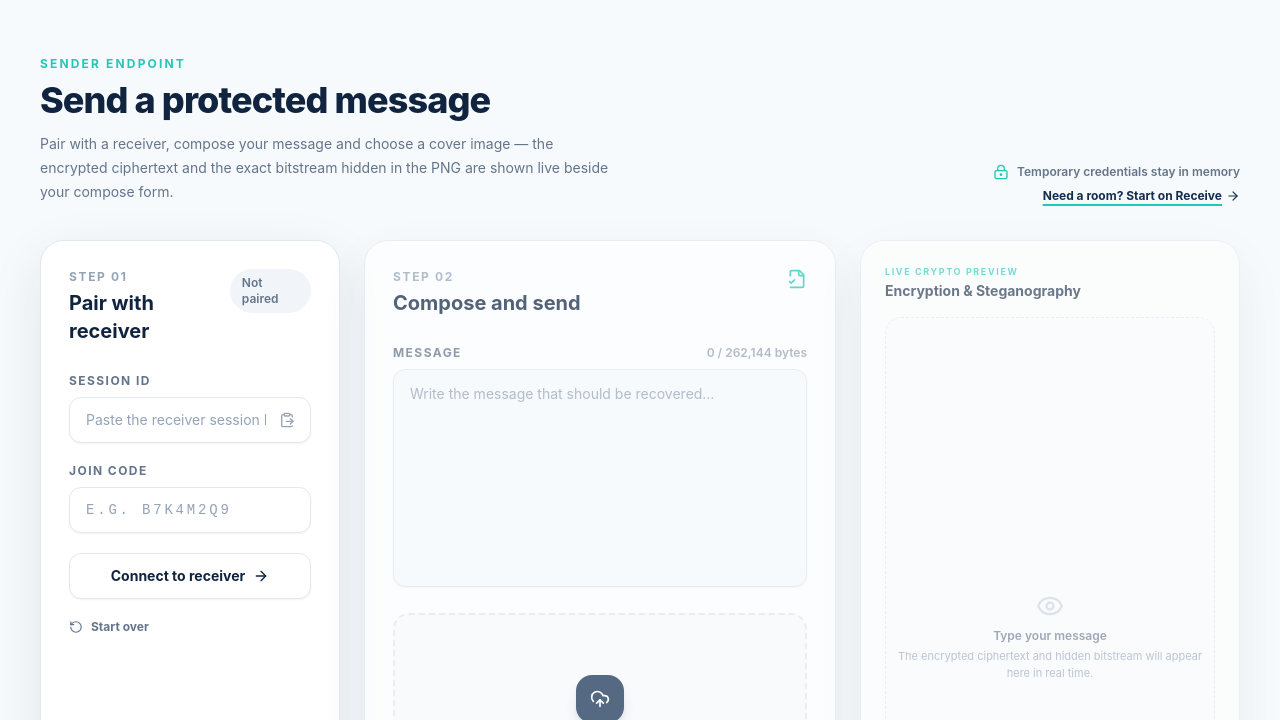
Test: SendMessagePage › pairs, previews a cover image, and submits a message through the typed API client
The width and height of the screenshot is (1280, 720).
Later steps or results of the test are not shown.
Type "session-123" into the field with placeholder "Paste the receiver session ID". click: (190, 420)
box: 69,397 -> 311,443
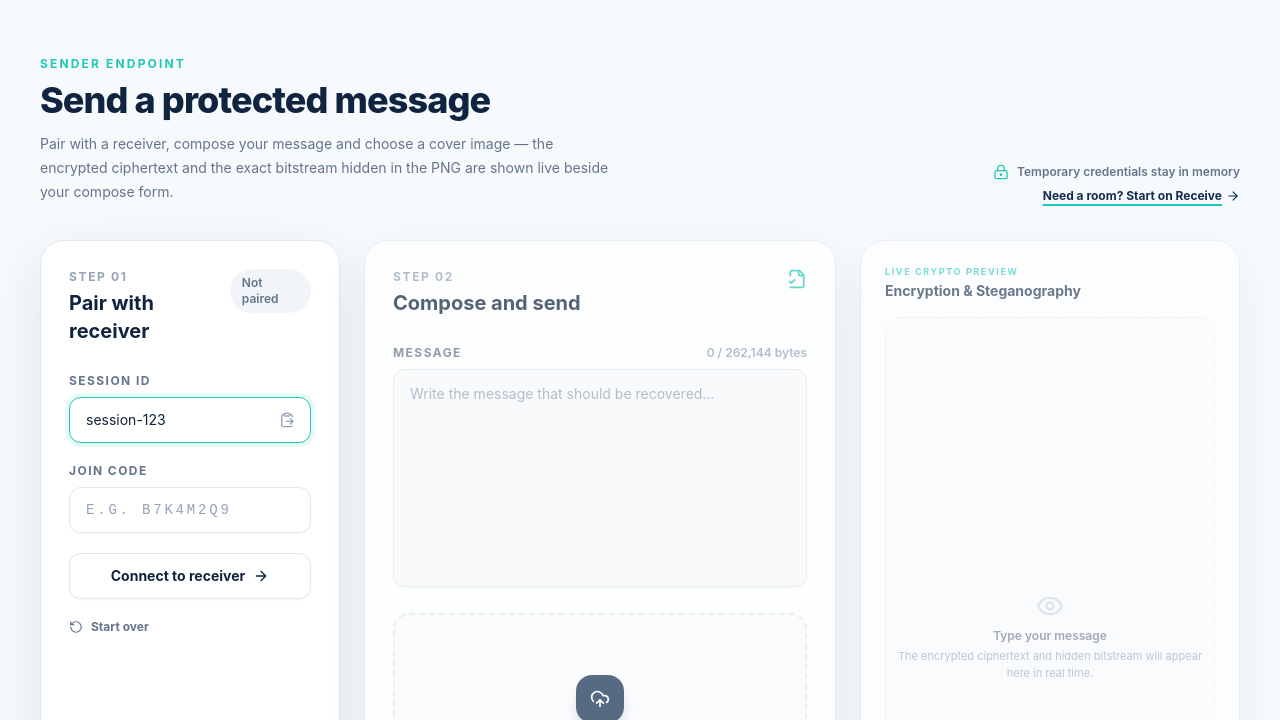
Type "B7K4M2Q9" into the field with placeholder "e.g. B7K4M2Q9". click: (190, 510)
box: 69,487 -> 311,533
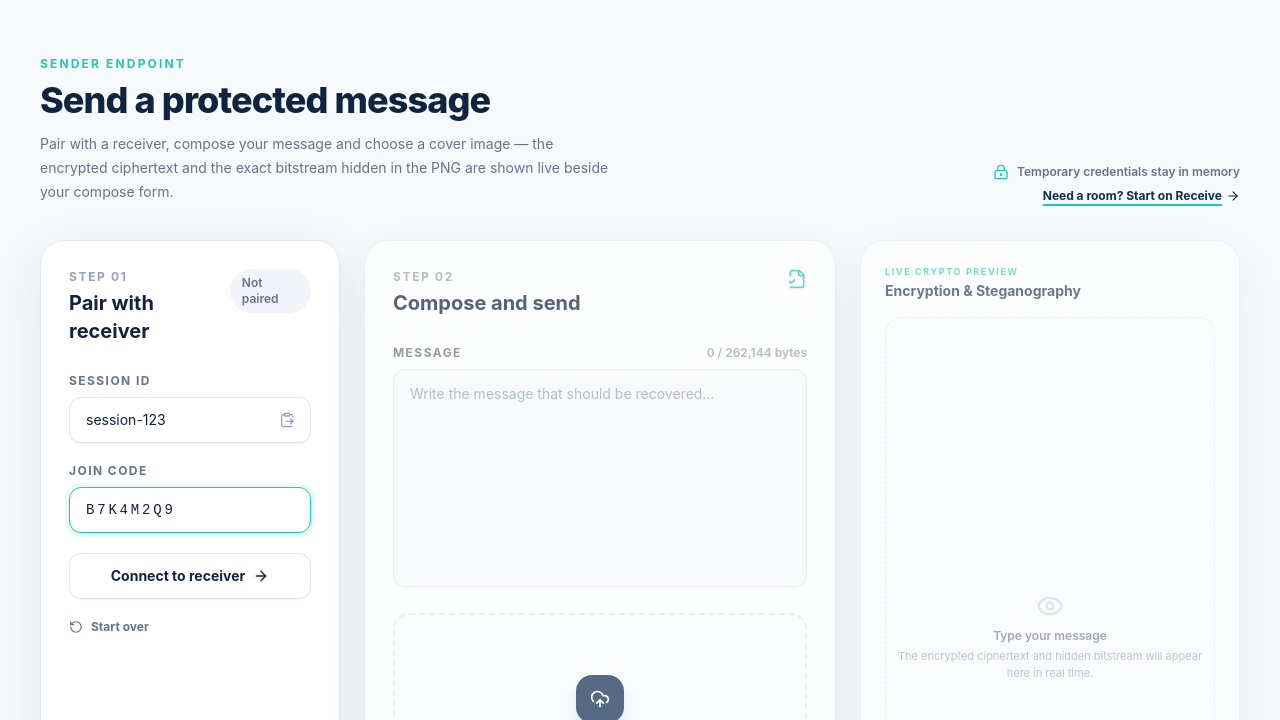
Click the button "Connect to receiver". click: (190, 576)
box: 69,553 -> 311,599
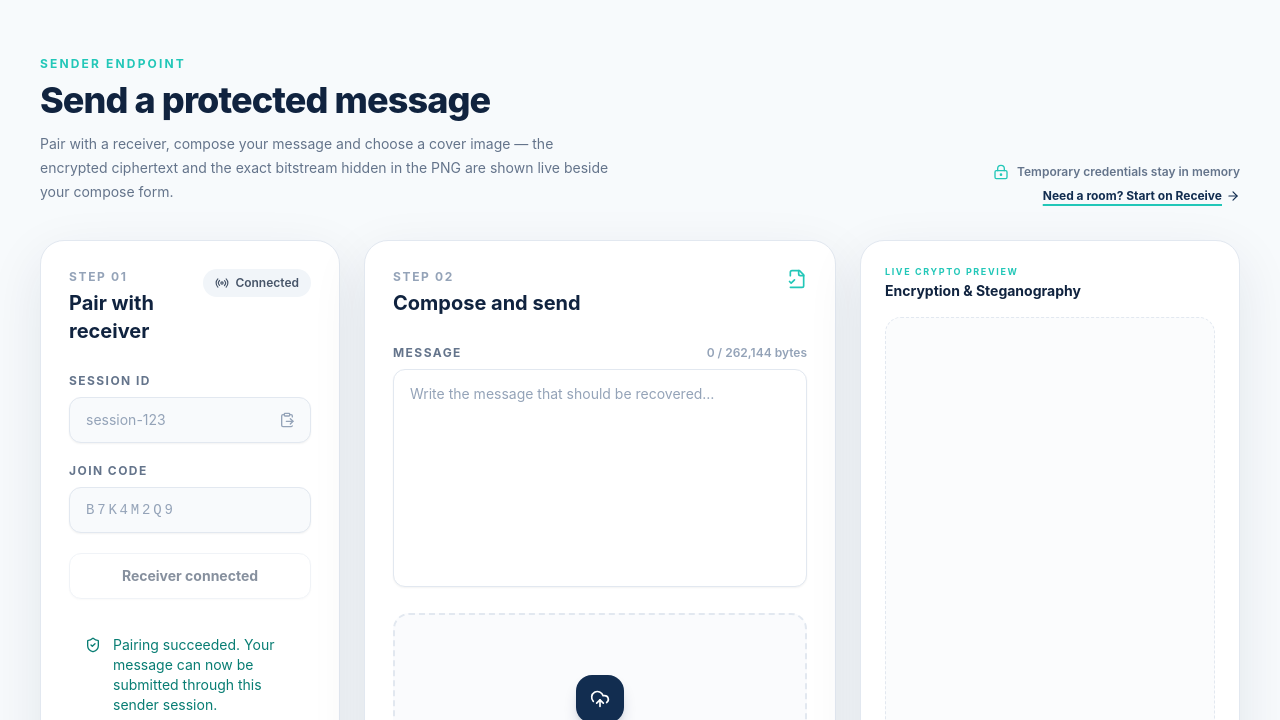
Expected: the button "Receiver connected" is shown, 69,553 -> 311,599
